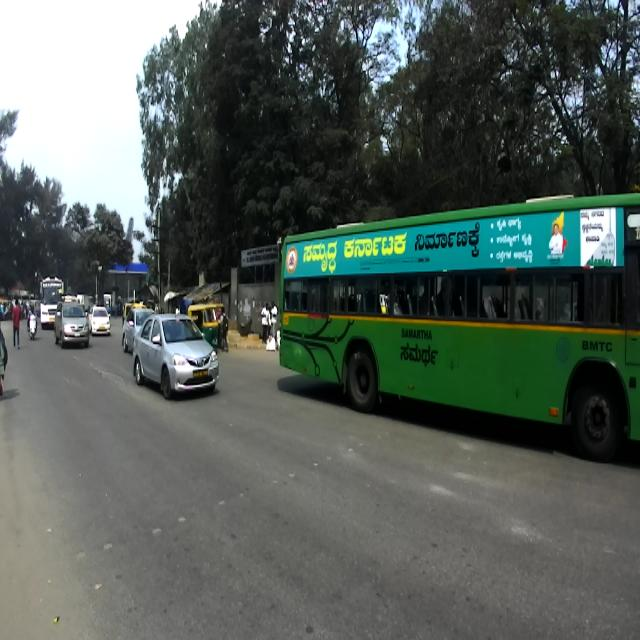bus ahead at: (272, 186, 640, 450)
car ahead at: (132, 310, 218, 403), (55, 299, 89, 343)
